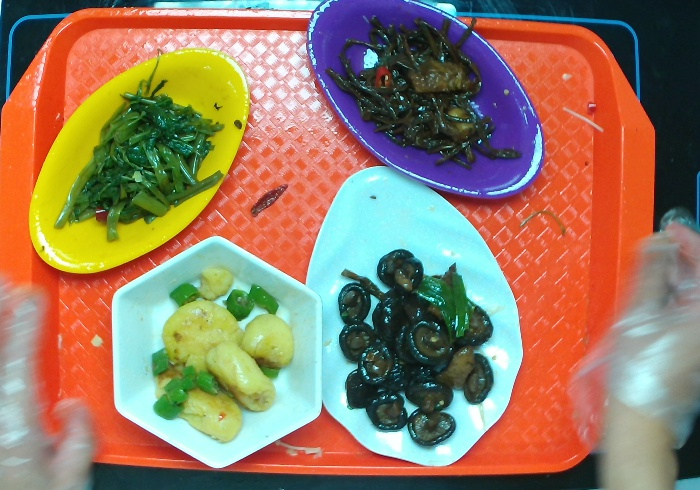RJxy-Bai_Ye_Pan: (305, 160, 529, 474)
RJxy-Fen_Hong_Tuo_Yuan: (297, 1, 551, 205)
RJxy-Huang_Se_Tuo_Yuan: (23, 44, 253, 283)
RJxy-Liu_Jiao_Wan: (100, 229, 328, 472)
